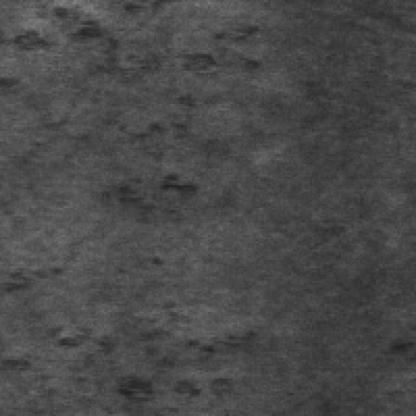rolled-in_scale: (8, 276, 260, 400), (17, 0, 262, 71), (114, 108, 206, 221)
